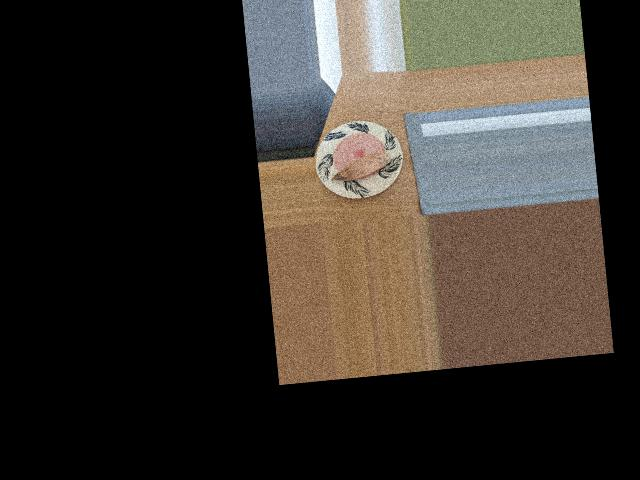sweet_potato: (334, 148, 390, 186)
